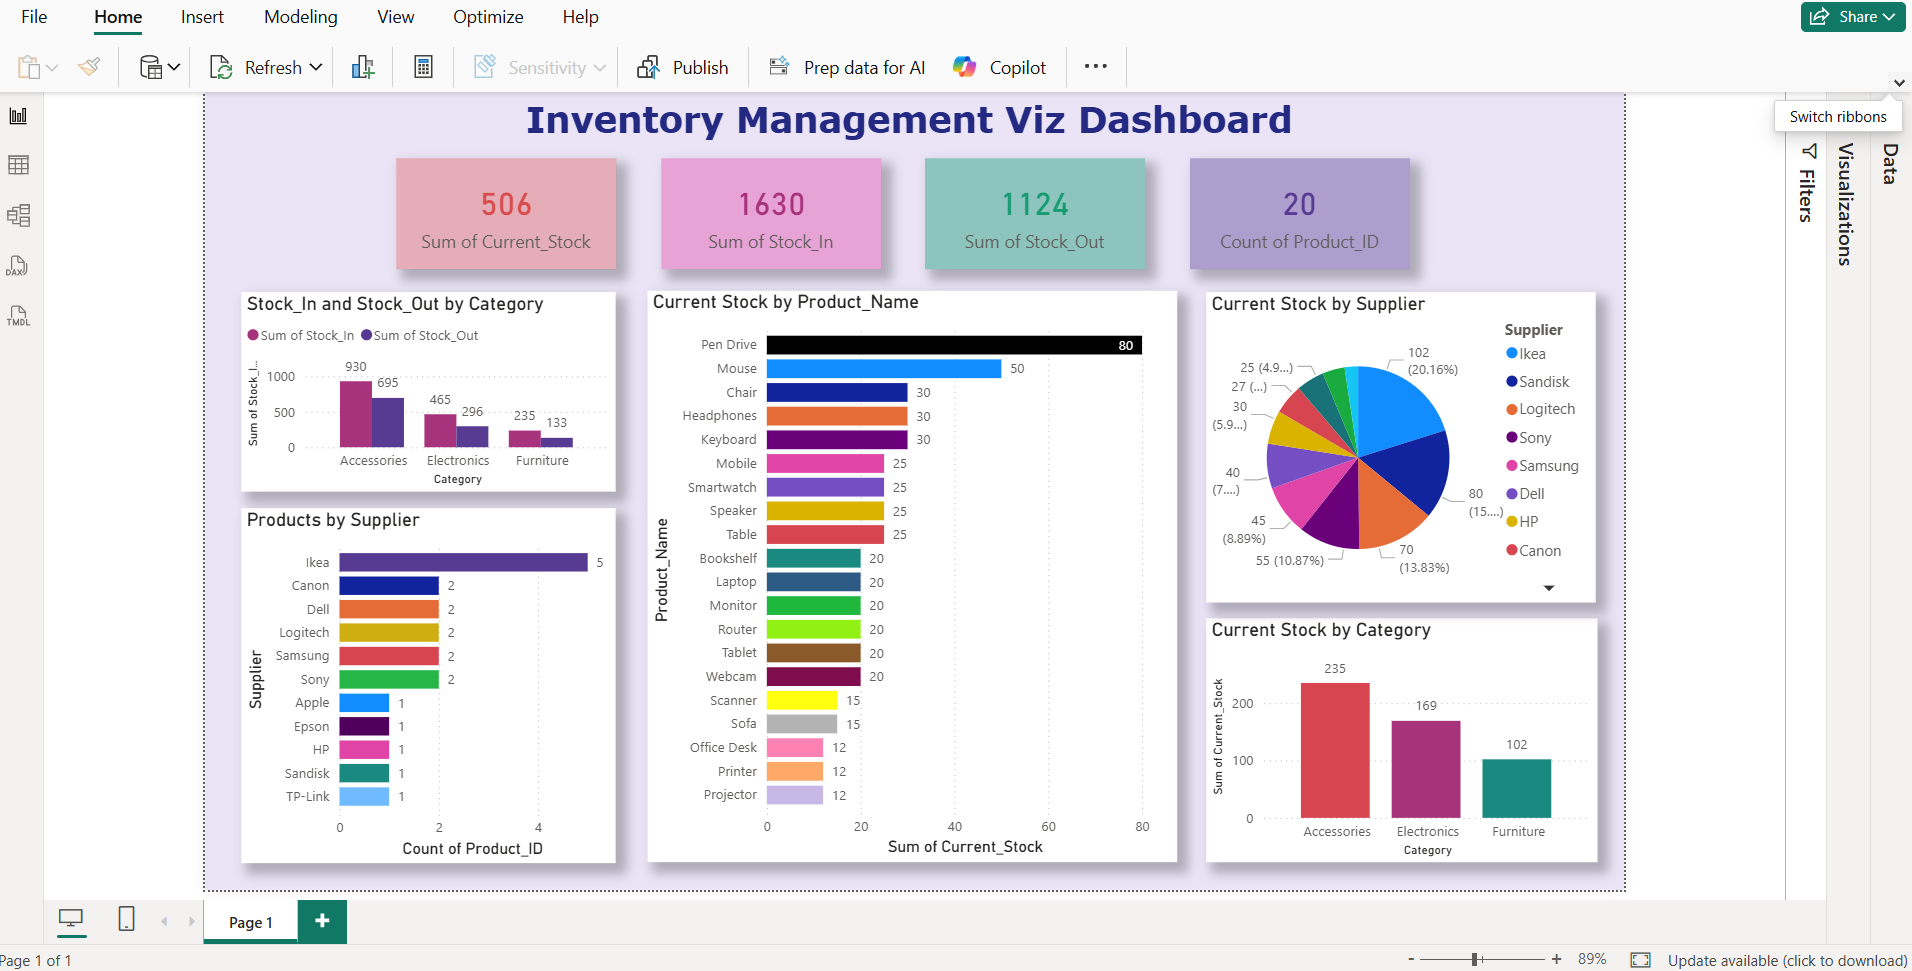

This screenshot's page, from the dashboard's own definition file:
{"tool":"powerbi","page":{"name":"Page 1","canvas":[1280,720],"ordinal":0},"visuals":[{"type":"textbox","box":[265.6,0,748.8,105],"z":0},{"type":"card","fields":{"Values":["Sum(Table.Current_Stock)"]},"box":[172.7,60.2,198,100.3],"z":1000},{"type":"card","fields":{"Values":["Sum(Table.Stock_In)"]},"box":[411.2,60.2,198,100.3],"z":2000},{"type":"card","fields":{"Values":["Sum(Table.Stock_Out)"]},"box":[649.7,60.2,198,100.3],"z":3000},{"type":"card","fields":{"Values":["Count(Table.Product_ID)"]},"box":[888.2,60.2,198,100.3],"z":4000},{"type":"clusteredColumnChart","title":"Current Stock by Category","fields":{"Category":["Table.Category"],"Y":["Sum(Table.Current_Stock)"]},"box":[902.5,475,352.5,220],"z":5000},{"type":"clusteredBarChart","title":"Current Stock by Product_Name","fields":{"Category":["Table.Product_Name"],"Y":["Sum(Table.Current_Stock)"]},"box":[398.7,179.5,477.9,514.9],"z":6000},{"type":"clusteredColumnChart","title":"Stock_In and Stock_Out by Category","fields":{"Category":["Table.Category"],"Y":["Sum(Table.Stock_In)","Sum(Table.Stock_Out)"]},"box":[32.2,180,337.8,180],"z":7000},{"type":"clusteredBarChart","title":"Products by Supplier","fields":{"Category":["Table.Supplier"],"Y":["Count(Table.Product_ID)"]},"box":[32.2,375.6,337.8,320],"z":8000},{"type":"pieChart","title":"Current Stock by Supplier","fields":{"Category":["Table.Supplier"],"Y":["Sum(Table.Current_Stock)"]},"box":[902.5,180,351.2,280],"z":9000}]}

Visuals, with their boxes on the page's 1280x720 design canvas (x1, y1, x2, y2). These are canvas units, not pixel positions in the 1912x971 screenshot, which may show the page scaled, cropped or inside an application window:
textbox: select_region(266, 0, 1014, 105)
card - Sum(Table.Current_Stock): select_region(173, 60, 371, 160)
card - Sum(Table.Stock_In): select_region(411, 60, 609, 160)
card - Sum(Table.Stock_Out): select_region(650, 60, 848, 160)
card - Count(Table.Product_ID): select_region(888, 60, 1086, 160)
"Current Stock by Category" clusteredColumnChart: select_region(902, 475, 1255, 695)
"Current Stock by Product_Name" clusteredBarChart: select_region(399, 180, 877, 694)
"Stock_In and Stock_Out by Category" clusteredColumnChart: select_region(32, 180, 370, 360)
"Products by Supplier" clusteredBarChart: select_region(32, 376, 370, 696)
"Current Stock by Supplier" pieChart: select_region(902, 180, 1254, 460)
